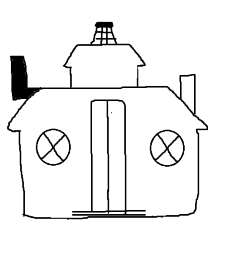chimney: (168, 67, 208, 114), (7, 49, 36, 104), (92, 17, 124, 49)
closed_window: (146, 121, 189, 174), (32, 120, 73, 169)
door: (84, 92, 129, 222)
single_line_roof: (4, 81, 210, 136), (61, 41, 151, 72)
wall: (17, 120, 203, 223)
